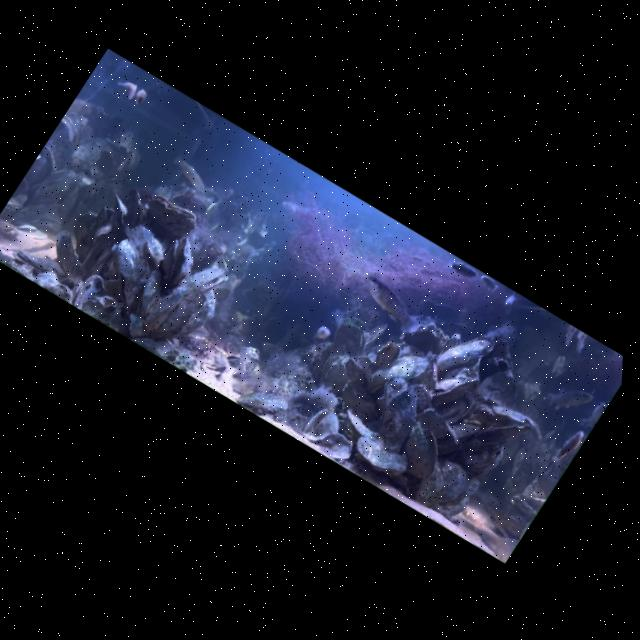Oyster-Closed: (88, 217, 176, 315), (353, 368, 438, 457), (361, 337, 431, 412), (430, 319, 498, 391), (345, 427, 414, 486), (157, 284, 210, 349), (425, 359, 482, 419), (418, 453, 476, 511), (9, 238, 72, 289), (137, 278, 188, 338), (124, 266, 173, 324), (335, 406, 393, 454), (408, 458, 458, 512), (331, 381, 384, 426), (408, 347, 454, 395), (98, 191, 139, 232)
Oyster-Indeterminate: (22, 156, 83, 224), (470, 388, 537, 443), (53, 204, 111, 266), (476, 405, 532, 462), (174, 288, 224, 349), (396, 312, 453, 364), (19, 143, 65, 196), (111, 185, 159, 235), (432, 381, 480, 430), (42, 226, 89, 273), (397, 377, 441, 421), (314, 426, 359, 468), (411, 402, 456, 444), (167, 181, 213, 222), (68, 270, 108, 314), (443, 408, 485, 448), (368, 335, 404, 375), (336, 355, 374, 390)
Oyster-Open: (387, 415, 456, 486), (137, 188, 203, 247), (151, 231, 207, 292), (323, 308, 379, 365), (297, 402, 346, 451), (183, 255, 231, 301), (48, 112, 89, 153), (223, 349, 245, 370)
